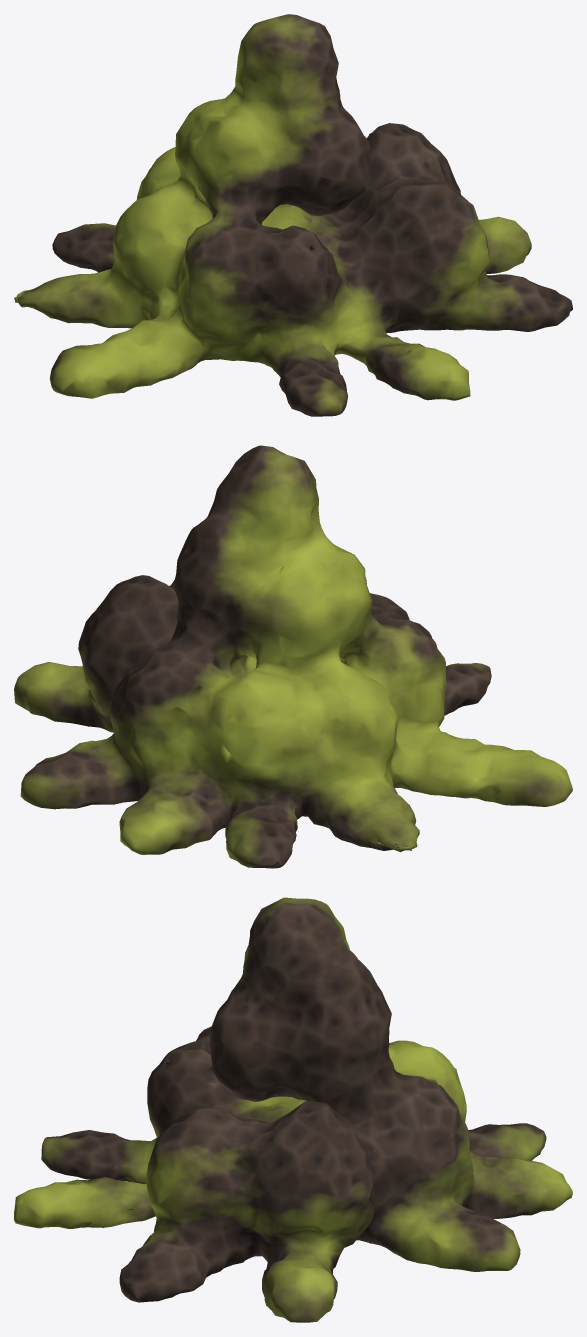
Rendered from prop_nest.glb.
3 views of the same model, one above another, from view 1: azimuth 30°, elevation 25°; view 2: azimuth 150°, elevation 25°; view 3: azimuth 270°, elevation 25° (orthographic). The views are drawn at different scales.
Visible parts, largest first — view 1: prop_nest; view 2: prop_nest; view 3: prop_nest.
Part boxes in pixels (bbox=[...]): prop_nest: bbox=[14, 14, 572, 416]; prop_nest: bbox=[14, 445, 572, 868]; prop_nest: bbox=[14, 897, 572, 1322].
Size of the model in its own units: 2.6 by 1.45 by 2.43.
1 material, 1 textured.
